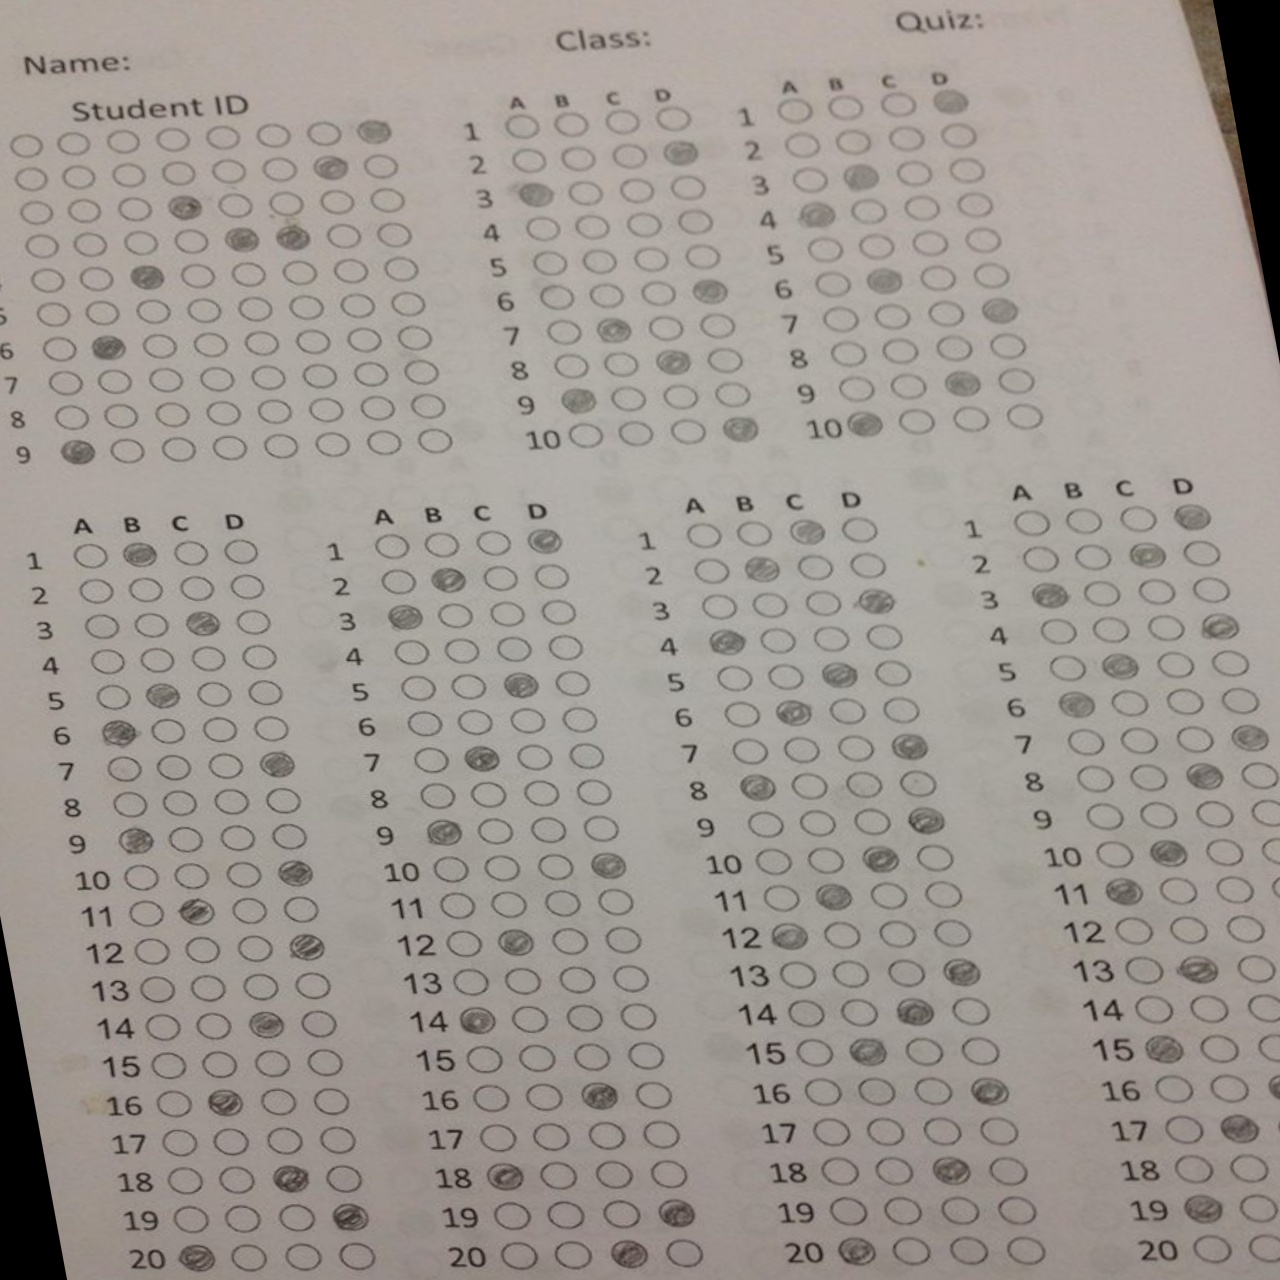not-c: (658, 1234, 709, 1269), (979, 1153, 1034, 1186), (999, 1231, 1050, 1265), (924, 915, 974, 949), (947, 994, 998, 1028), (622, 1039, 670, 1074), (835, 994, 884, 1028), (978, 1114, 1027, 1148), (906, 1075, 959, 1107), (615, 998, 661, 1034), (546, 1238, 598, 1269), (822, 1194, 874, 1225), (871, 300, 917, 335), (881, 369, 932, 401), (549, 667, 595, 701), (539, 887, 586, 921), (334, 1240, 382, 1273), (918, 1114, 966, 1146), (983, 328, 1032, 361), (817, 1153, 862, 1189), (1043, 651, 1092, 682), (536, 1158, 583, 1191), (876, 1194, 926, 1225), (215, 1163, 263, 1194), (606, 960, 654, 992), (893, 767, 941, 798), (804, 1114, 852, 1145), (647, 1157, 692, 1191), (825, 956, 874, 987), (954, 1034, 1003, 1064), (925, 297, 971, 329), (1233, 953, 1279, 986), (301, 1048, 348, 1080), (472, 527, 519, 559), (567, 1042, 614, 1074), (518, 212, 565, 244), (870, 921, 922, 949), (862, 1114, 908, 1145), (264, 1125, 307, 1159), (530, 1121, 573, 1155), (935, 1194, 983, 1225), (888, 1235, 937, 1266), (948, 1232, 996, 1262), (779, 735, 824, 768), (1235, 1190, 1280, 1223), (813, 921, 865, 949), (590, 887, 639, 917), (992, 1194, 1041, 1224), (463, 1043, 505, 1077), (447, 967, 493, 998), (871, 1156, 918, 1186), (1226, 1152, 1273, 1183), (486, 888, 530, 921), (930, 336, 982, 363), (223, 858, 267, 890), (588, 1157, 633, 1189), (810, 622, 855, 654), (1205, 836, 1250, 867), (554, 966, 602, 995), (830, 734, 878, 763), (884, 958, 932, 987), (1175, 538, 1223, 567), (835, 372, 876, 406), (531, 561, 577, 592), (748, 592, 794, 622), (942, 157, 988, 188), (1002, 402, 1048, 433), (676, 244, 728, 271), (774, 964, 825, 990), (406, 745, 455, 774), (712, 663, 761, 692), (801, 1078, 850, 1107), (933, 120, 982, 148), (748, 847, 795, 877), (890, 158, 937, 188), (1116, 726, 1163, 755), (1155, 874, 1201, 904), (1212, 873, 1259, 903), (1128, 995, 1175, 1024), (1187, 995, 1234, 1024), (240, 971, 284, 1002), (477, 1121, 520, 1152), (696, 591, 740, 622), (1092, 837, 1136, 869), (1242, 989, 1280, 1026), (917, 881, 967, 908), (1185, 1235, 1235, 1262), (250, 1049, 294, 1080), (318, 1124, 362, 1155), (838, 516, 883, 546), (1071, 542, 1116, 572), (1137, 799, 1182, 830), (600, 928, 648, 956), (629, 1080, 678, 1108), (1164, 915, 1212, 944), (535, 850, 576, 883), (370, 532, 416, 561), (563, 742, 608, 771), (892, 408, 938, 437), (1073, 764, 1118, 794), (1198, 1036, 1244, 1065), (1153, 1074, 1199, 1103), (232, 605, 274, 636), (165, 1165, 207, 1197), (571, 778, 613, 810), (581, 813, 624, 845), (856, 1074, 898, 1105), (306, 1088, 355, 1115), (497, 113, 546, 139), (151, 1089, 195, 1119), (467, 1083, 510, 1114), (709, 377, 753, 408), (1237, 760, 1280, 790), (1208, 1074, 1252, 1104), (121, 574, 168, 602), (388, 636, 435, 665), (599, 1201, 646, 1230), (613, 179, 660, 207), (755, 883, 802, 911), (906, 229, 953, 257), (545, 926, 590, 955), (615, 420, 660, 449), (899, 195, 944, 224), (955, 191, 1000, 220), (917, 263, 961, 292), (1172, 724, 1217, 754), (526, 251, 577, 277), (1016, 546, 1067, 572), (558, 147, 606, 173), (663, 418, 712, 445), (1085, 617, 1133, 644), (416, 425, 458, 456), (278, 1242, 324, 1271), (509, 1005, 554, 1033), (640, 1118, 682, 1149), (495, 1242, 540, 1271), (645, 315, 690, 343), (563, 422, 608, 450), (849, 550, 891, 580), (821, 93, 866, 121), (1155, 651, 1200, 679), (1220, 686, 1266, 714), (282, 293, 326, 322), (86, 648, 129, 678), (324, 1163, 367, 1192), (519, 779, 563, 809), (428, 853, 471, 883), (443, 927, 486, 956), (806, 847, 850, 877), (202, 753, 251, 778), (278, 896, 325, 922), (373, 568, 420, 595), (505, 708, 552, 735), (522, 1085, 568, 1112), (788, 166, 835, 193), (488, 598, 527, 629), (441, 638, 485, 666), (490, 1200, 535, 1228), (1226, 914, 1271, 942), (1123, 955, 1167, 983), (1175, 1153, 1219, 1182), (159, 788, 200, 818), (422, 530, 463, 560), (468, 779, 509, 810), (737, 518, 778, 549), (949, 406, 990, 436), (542, 634, 590, 660), (499, 967, 547, 993), (538, 321, 586, 347), (402, 358, 444, 387), (565, 1003, 607, 1033), (516, 1043, 558, 1073), (901, 1036, 944, 1065), (1064, 726, 1107, 755), (1114, 915, 1156, 945), (386, 290, 431, 316), (192, 1013, 238, 1040), (220, 1206, 266, 1233), (784, 999, 830, 1026), (794, 1039, 839, 1065), (141, 1015, 184, 1043), (198, 1051, 241, 1080), (913, 843, 956, 871), (824, 339, 867, 367), (1009, 509, 1053, 537), (1065, 506, 1109, 535), (688, 560, 737, 585), (107, 794, 154, 819), (210, 1129, 257, 1155), (127, 898, 168, 927), (561, 704, 602, 734), (961, 224, 1002, 253), (994, 366, 1035, 395), (297, 365, 341, 392), (251, 399, 295, 425), (454, 709, 498, 736), (564, 179, 608, 206), (570, 215, 614, 241), (728, 738, 772, 765), (1207, 648, 1252, 675), (195, 365, 237, 393), (239, 642, 281, 670), (250, 714, 292, 742), (704, 349, 747, 377), (660, 383, 702, 411), (971, 261, 1013, 290), (1130, 763, 1172, 791), (1083, 803, 1125, 831), (1193, 799, 1235, 828), (840, 772, 888, 797), (876, 93, 924, 117), (1189, 578, 1237, 602), (188, 972, 226, 1002), (395, 673, 441, 699), (1080, 583, 1125, 608), (1162, 687, 1207, 713), (358, 152, 401, 179), (264, 191, 307, 218), (18, 232, 61, 259), (226, 261, 270, 288), (144, 366, 188, 393), (105, 436, 149, 463), (258, 433, 301, 459), (195, 682, 238, 709), (545, 1201, 588, 1228), (760, 626, 803, 653), (855, 232, 898, 259), (134, 611, 173, 640), (170, 862, 211, 890), (184, 935, 225, 964), (229, 1242, 270, 1271), (495, 635, 536, 663), (436, 890, 477, 918), (549, 110, 595, 135), (277, 259, 321, 285), (130, 298, 175, 324), (355, 395, 400, 421), (156, 1130, 200, 1156), (583, 284, 627, 309), (1116, 504, 1160, 530), (132, 935, 170, 966), (588, 1119, 626, 1150), (103, 128, 145, 155), (74, 577, 116, 604), (233, 933, 275, 960), (147, 1051, 189, 1078), (478, 855, 520, 881), (1148, 613, 1186, 642), (794, 554, 839, 579), (325, 222, 365, 250), (46, 367, 86, 395), (229, 572, 268, 600), (270, 824, 309, 852), (229, 898, 268, 926), (883, 697, 922, 726), (12, 200, 55, 226), (113, 195, 156, 220), (94, 366, 137, 392), (91, 683, 135, 709), (774, 98, 817, 124), (819, 308, 863, 334), (316, 188, 358, 215), (241, 331, 282, 358), (406, 392, 447, 418), (159, 434, 200, 461), (137, 648, 178, 675), (200, 715, 241, 742), (828, 699, 869, 726), (1109, 689, 1150, 716), (1165, 1117, 1206, 1144), (301, 1009, 339, 1039), (210, 790, 254, 815), (136, 978, 181, 1002), (257, 1091, 301, 1116), (52, 132, 94, 158), (367, 188, 409, 213), (68, 542, 110, 567), (151, 753, 193, 778), (530, 813, 568, 842), (635, 282, 678, 308), (685, 524, 727, 550), (784, 134, 826, 159), (1138, 576, 1177, 604), (1247, 795, 1280, 828), (374, 222, 414, 248), (515, 745, 554, 772), (672, 207, 712, 234), (765, 665, 805, 692), (400, 712, 445, 735), (435, 602, 478, 627), (602, 109, 646, 134), (64, 198, 105, 224), (175, 264, 216, 290), (233, 297, 274, 322), (192, 331, 233, 356), (154, 402, 195, 428), (202, 400, 243, 425), (363, 429, 404, 455), (175, 576, 216, 601), (148, 719, 189, 744), (511, 148, 552, 173), (610, 386, 651, 411), (720, 701, 761, 727), (654, 104, 692, 132), (532, 287, 579, 309), (152, 127, 191, 154), (381, 256, 420, 282), (264, 787, 302, 813), (538, 599, 577, 626), (476, 817, 515, 844), (667, 175, 706, 202), (867, 622, 906, 649), (851, 199, 890, 226), (329, 258, 372, 282), (97, 403, 139, 428), (622, 212, 665, 237), (804, 592, 846, 617), (869, 883, 911, 907), (263, 155, 302, 181), (343, 325, 383, 350), (164, 826, 204, 852), (122, 864, 162, 890), (418, 785, 458, 811), (888, 124, 928, 150), (68, 233, 111, 257), (38, 336, 81, 360), (209, 436, 252, 459), (631, 248, 674, 272), (872, 661, 915, 685), (789, 775, 832, 798), (804, 239, 847, 263), (185, 297, 223, 324), (252, 365, 290, 392), (207, 159, 248, 184), (396, 325, 437, 349), (744, 811, 785, 836), (798, 810, 839, 835), (853, 809, 894, 833), (812, 273, 853, 298), (111, 162, 150, 188), (220, 539, 259, 565), (219, 825, 258, 851), (173, 1208, 212, 1234), (278, 1204, 316, 1230), (1041, 618, 1080, 644), (551, 354, 593, 377), (121, 231, 161, 256), (27, 267, 67, 292), (33, 301, 73, 326), (139, 333, 179, 358), (188, 647, 227, 672), (107, 756, 147, 781), (481, 567, 520, 592), (84, 299, 121, 326), (340, 292, 377, 318), (60, 166, 98, 191), (246, 680, 285, 704), (583, 248, 618, 275), (81, 615, 123, 638), (295, 328, 332, 354), (350, 361, 387, 387), (833, 129, 870, 155), (610, 147, 649, 170), (8, 134, 46, 158), (306, 122, 343, 147), (602, 354, 640, 379), (1246, 1235, 1280, 1262), (53, 406, 91, 429), (297, 974, 332, 1000), (881, 338, 917, 363), (309, 396, 346, 421), (450, 676, 486, 701), (200, 125, 240, 148), (8, 166, 48, 189), (699, 315, 738, 338), (171, 230, 209, 253), (173, 540, 207, 566), (79, 268, 117, 291), (314, 433, 353, 455), (161, 164, 199, 185), (256, 125, 292, 148), (218, 193, 254, 215), (1255, 1032, 1280, 1062), (1257, 832, 1280, 864)
taken-c: (925, 1153, 976, 1186), (200, 1085, 250, 1119), (451, 1002, 501, 1036), (829, 1234, 879, 1267), (1179, 1191, 1227, 1225), (552, 384, 604, 416), (964, 1074, 1013, 1107), (1099, 874, 1146, 908), (177, 607, 226, 639), (280, 930, 331, 960), (271, 857, 319, 888), (170, 896, 218, 927), (1214, 1112, 1262, 1144), (482, 1159, 526, 1193), (123, 261, 172, 292), (268, 1162, 314, 1194), (588, 315, 638, 346), (685, 275, 734, 306), (1173, 953, 1223, 983), (837, 162, 884, 193), (717, 414, 765, 444), (843, 1036, 891, 1067), (1225, 720, 1269, 753), (574, 1080, 624, 1109), (350, 116, 397, 147), (254, 749, 301, 779), (840, 408, 887, 438), (791, 198, 838, 229), (1196, 608, 1240, 640), (421, 818, 469, 847), (1123, 542, 1171, 571), (270, 222, 315, 252), (424, 564, 470, 594), (704, 627, 750, 658), (1054, 688, 1099, 719), (975, 295, 1024, 324), (54, 437, 101, 467), (862, 266, 908, 295), (1146, 837, 1190, 869), (113, 824, 157, 855), (243, 1008, 287, 1039), (172, 1240, 217, 1271), (602, 1237, 647, 1267), (652, 1197, 696, 1227), (491, 926, 536, 956), (584, 849, 628, 879), (1167, 499, 1212, 530), (925, 83, 971, 113), (306, 150, 349, 181), (327, 1201, 370, 1232), (858, 844, 901, 874), (1026, 577, 1069, 607), (937, 368, 983, 396), (809, 881, 856, 910), (1141, 1034, 1185, 1063), (520, 526, 566, 554), (218, 223, 261, 252), (382, 602, 429, 629), (162, 193, 206, 222), (115, 539, 159, 567), (891, 996, 935, 1024), (887, 731, 930, 761), (813, 660, 859, 687), (511, 179, 554, 207), (938, 956, 981, 985), (1096, 651, 1139, 679), (904, 804, 945, 833), (651, 348, 695, 375), (84, 333, 130, 359), (96, 719, 139, 745), (1182, 761, 1225, 788), (459, 744, 501, 772), (659, 138, 700, 166), (735, 772, 776, 801), (139, 680, 182, 707), (498, 670, 540, 697), (772, 697, 812, 726), (765, 922, 809, 948), (853, 586, 894, 613), (738, 556, 779, 581), (784, 517, 825, 543)
